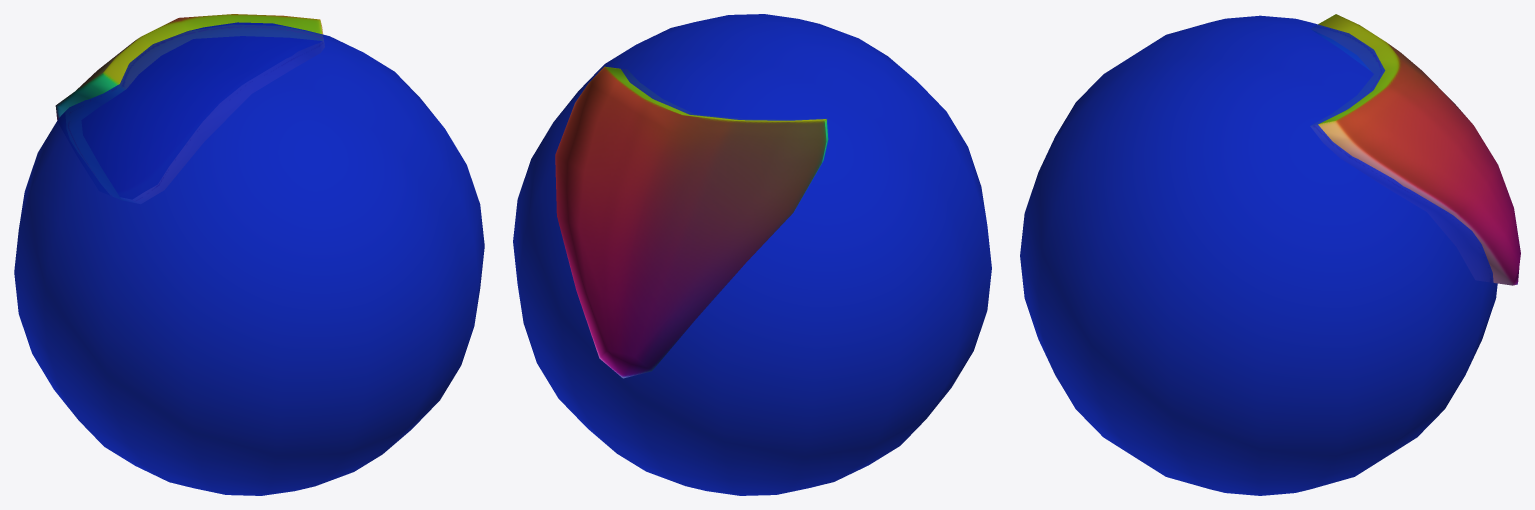
Rendered from ElipCuerpo.obj.
3 views of the same model, side by side, from view 1: azimuth 30°, elevation 25°; view 2: azimuth 150°, elevation 25°; view 3: azimuth 270°, elevation 25° (orthographic).
Parts seen in each view (by area): view 1: Sphere.006_Sphere.005; view 2: Sphere.006_Sphere.005; view 3: Sphere.006_Sphere.005.
Boxes of the visible parts, x1=… form: Sphere.006_Sphere.005: x1=14, y1=14, x2=484, y2=495; Sphere.006_Sphere.005: x1=513, y1=14, x2=991, y2=495; Sphere.006_Sphere.005: x1=1020, y1=14, x2=1520, y2=495.
Size of the model in its own units: 3.79 by 3.79 by 3.95.
